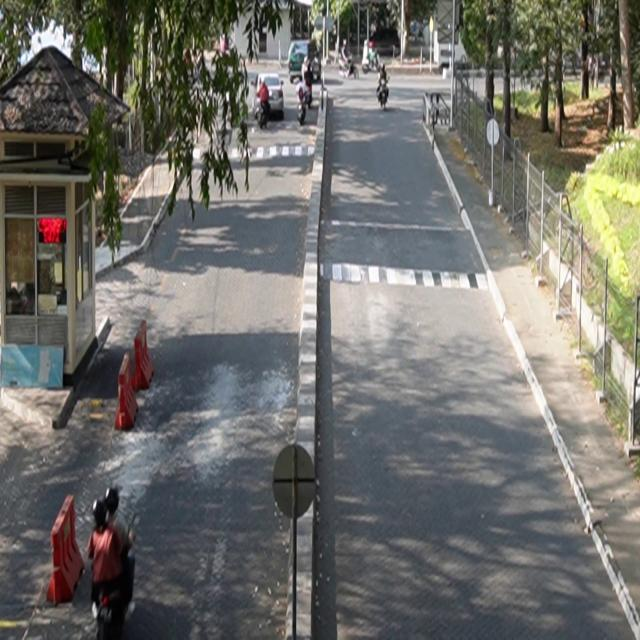car: (254, 73, 285, 121)
